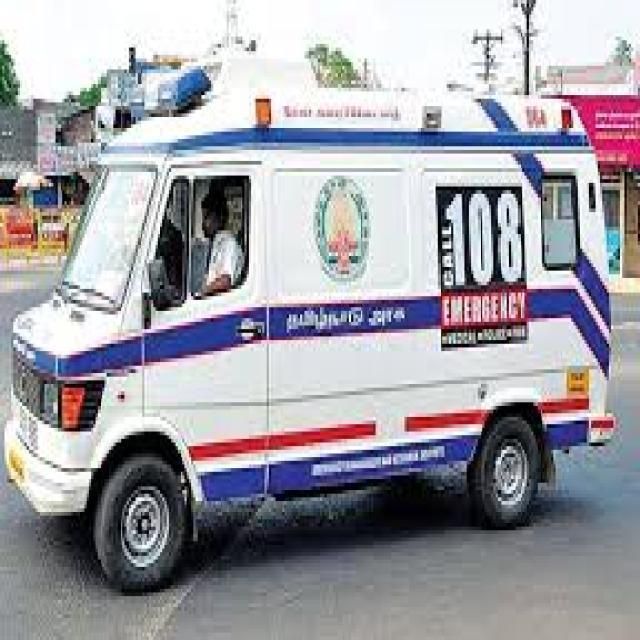ambulance: (10, 60, 610, 591)
